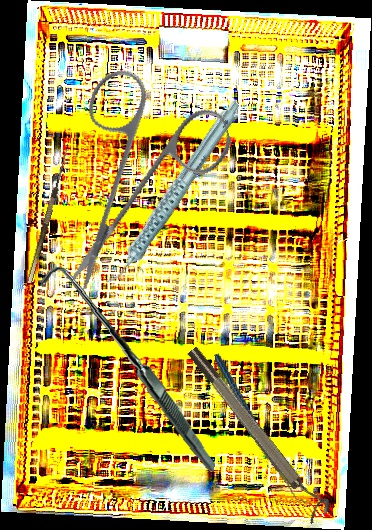Chopper: (214, 342, 310, 518)
Fixation Ring: (184, 338, 334, 525)
Handpiece: (71, 97, 272, 288)
Hook Surgical: (31, 265, 225, 474), (19, 141, 72, 284)
Iris Scissors: (14, 44, 261, 293)
